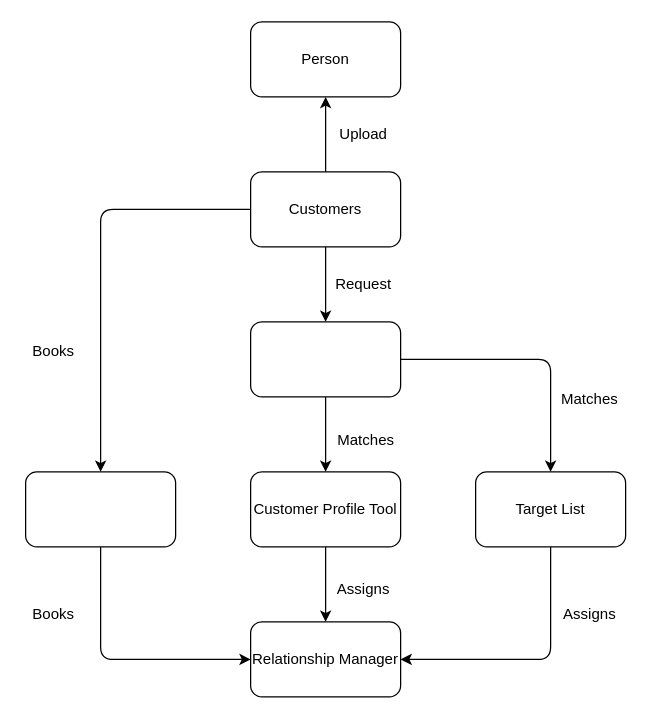
Image size: 648x719. Some labels were removed from this diagram. The shapes that lost their labels are listed below. From the top down, each one's centre as x and y in pixels, then its label:
At point 325,359: "Support Ticket".
At point 100,509: "Ticket".
